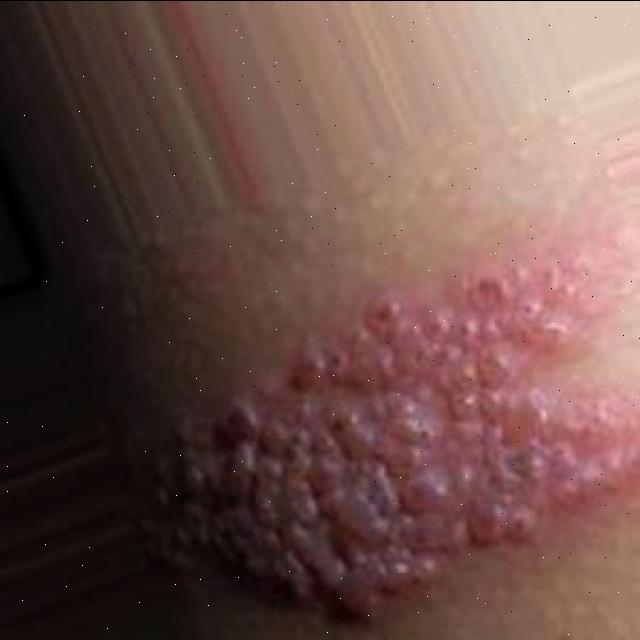Shingles: (172, 258, 632, 617)
